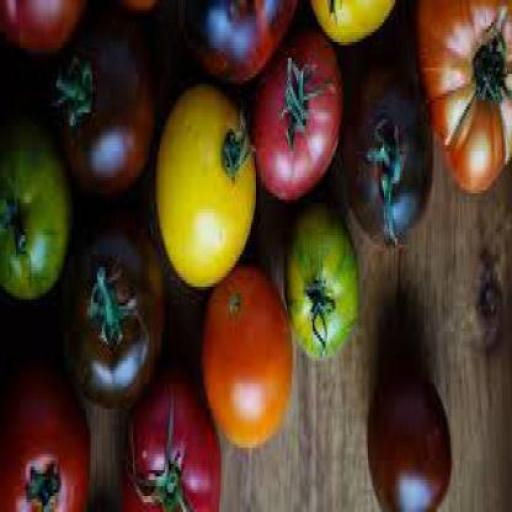biodegradable: (157, 84, 259, 296), (64, 216, 166, 412), (417, 3, 511, 198), (58, 23, 156, 206), (346, 62, 436, 251), (206, 271, 296, 450), (254, 28, 345, 203), (2, 354, 92, 511), (2, 122, 76, 310), (124, 376, 223, 510), (368, 363, 457, 511), (286, 210, 360, 364), (175, 3, 301, 84), (2, 3, 88, 65), (311, 3, 400, 51)
